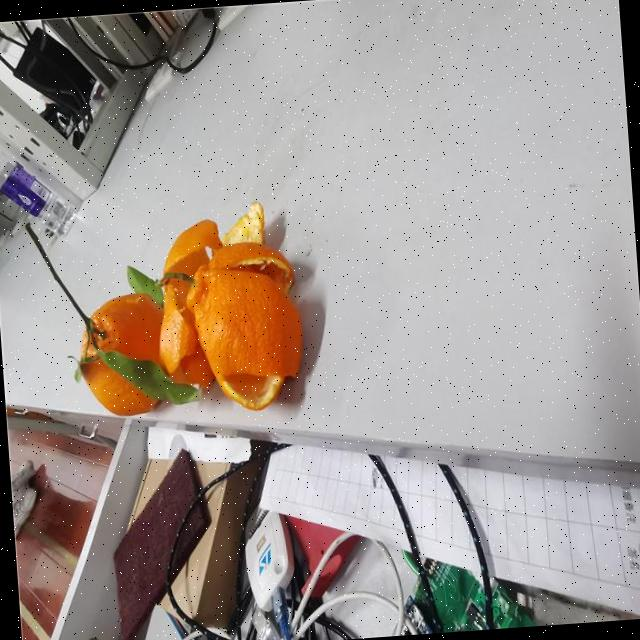orange-peel: (66, 199, 308, 423)
